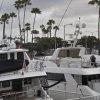Boat: (4, 35, 98, 93)
